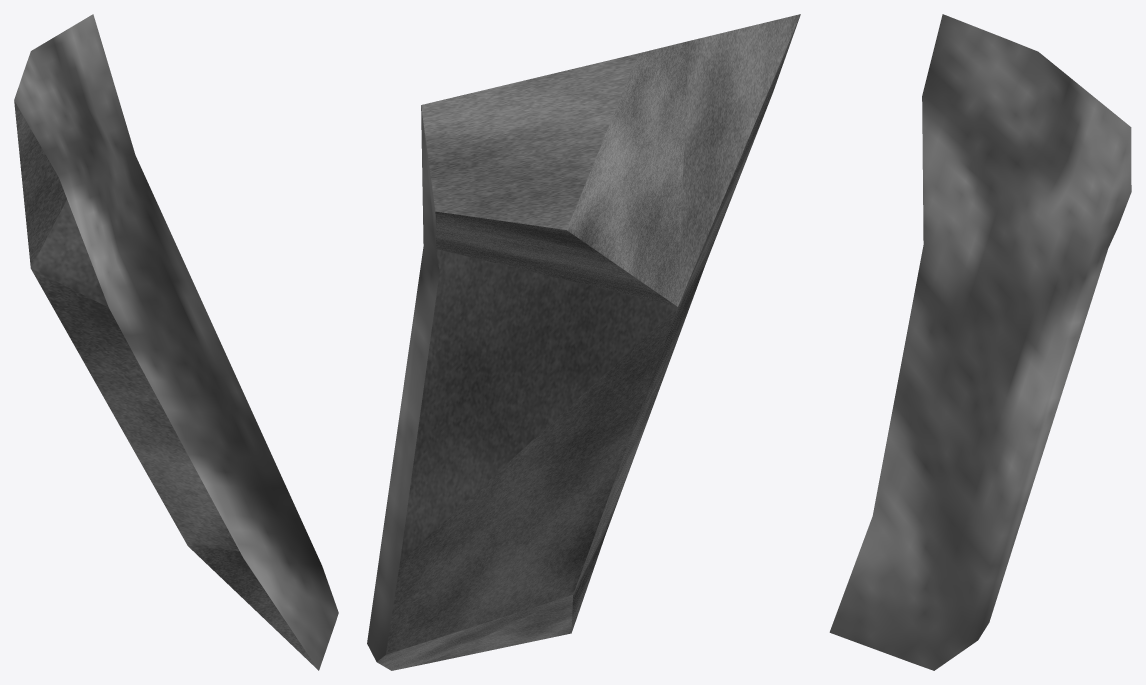
File: tail_cell_019.fbx
3 renders of one model, left to right at view 1: azimuth 30°, elevation 25°; view 2: azimuth 150°, elevation 25°; view 3: azimuth 270°, elevation 25°, orthographic. The views are drawn at different scales.
Parts seen in each view (by area): view 1: tail_cell.019; view 2: tail_cell.019; view 3: tail_cell.019.
Boxes of the visible parts, x1=… form: tail_cell.019: x1=14, y1=14, x2=338, y2=670; tail_cell.019: x1=367, y1=14, x2=800, y2=670; tail_cell.019: x1=829, y1=14, x2=1131, y2=670.
Size of the model in its own units: 28.39 by 49.63 by 26.18.
